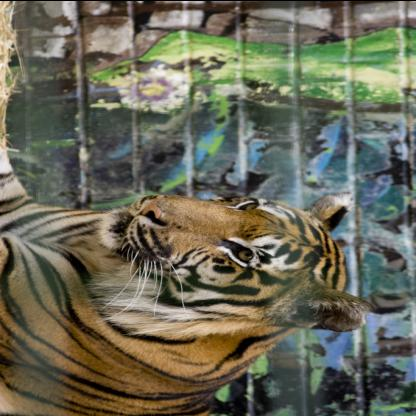tiger: (94, 170, 352, 336)
